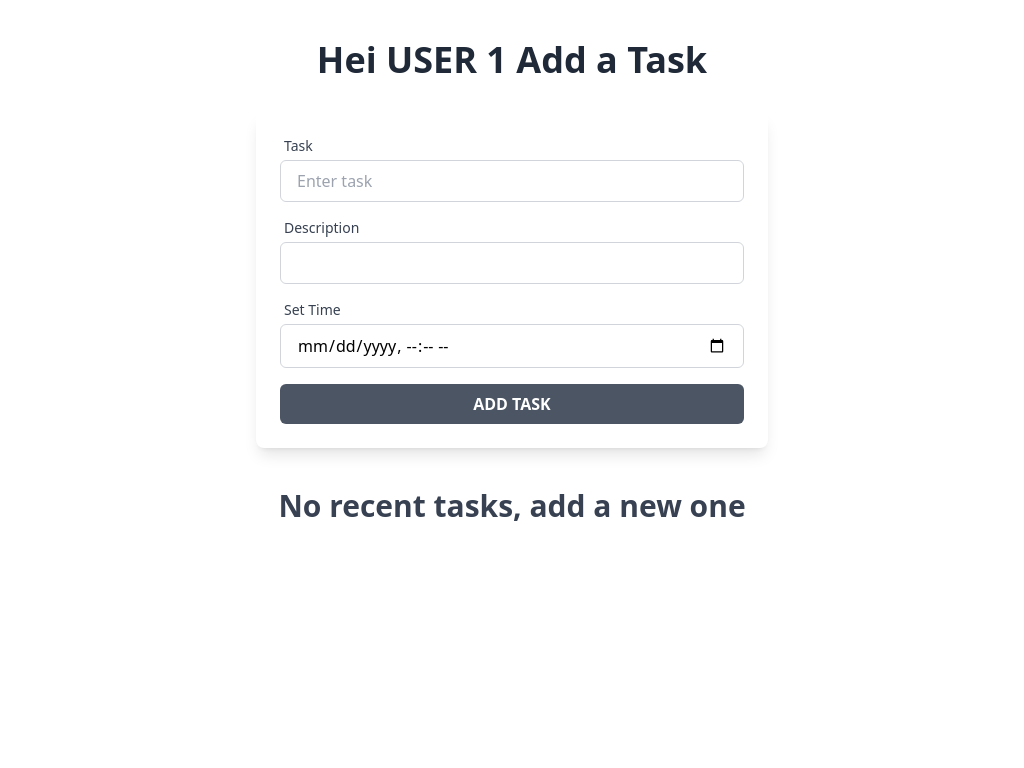
Test: Home component › should show the error message 'fill all the input fileds' when no input submit
Step 1. Click the button "ADD TASK" → (512, 404), box [280,384,744,424]
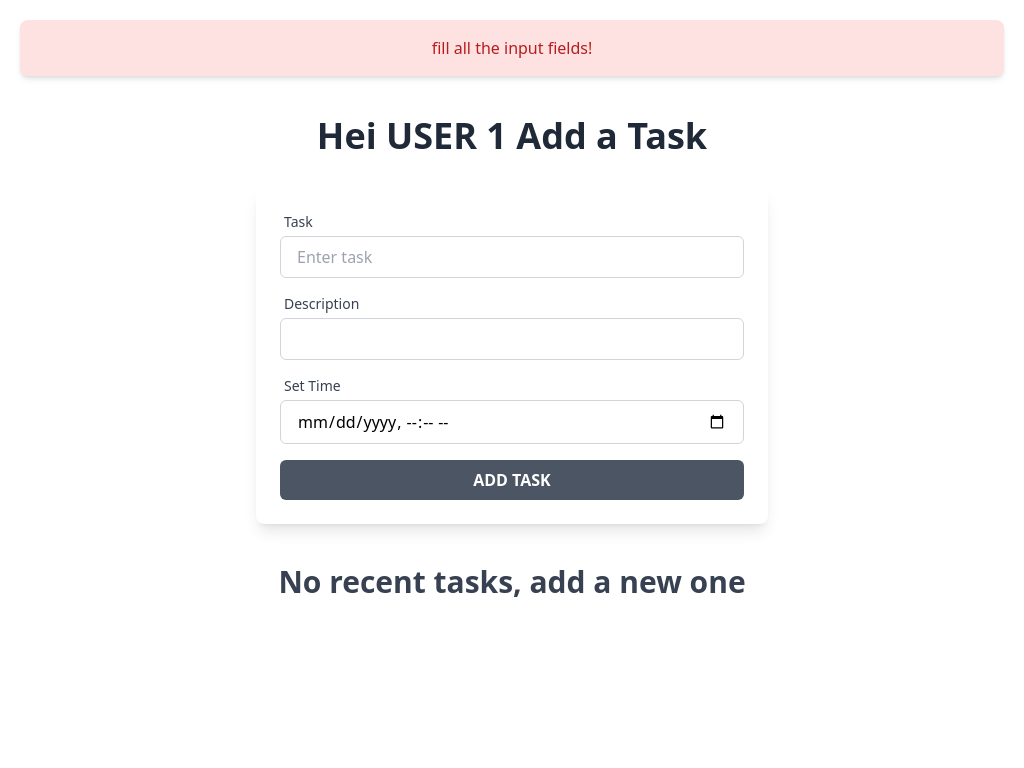
Now the heading "fill all the input fields!" is shown, box [432,36,592,60]
